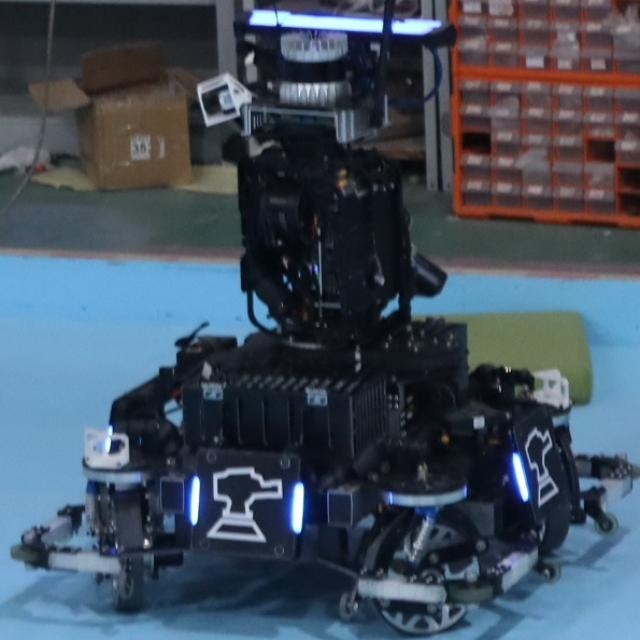Bs: (188, 462, 304, 545), (513, 416, 562, 512)
